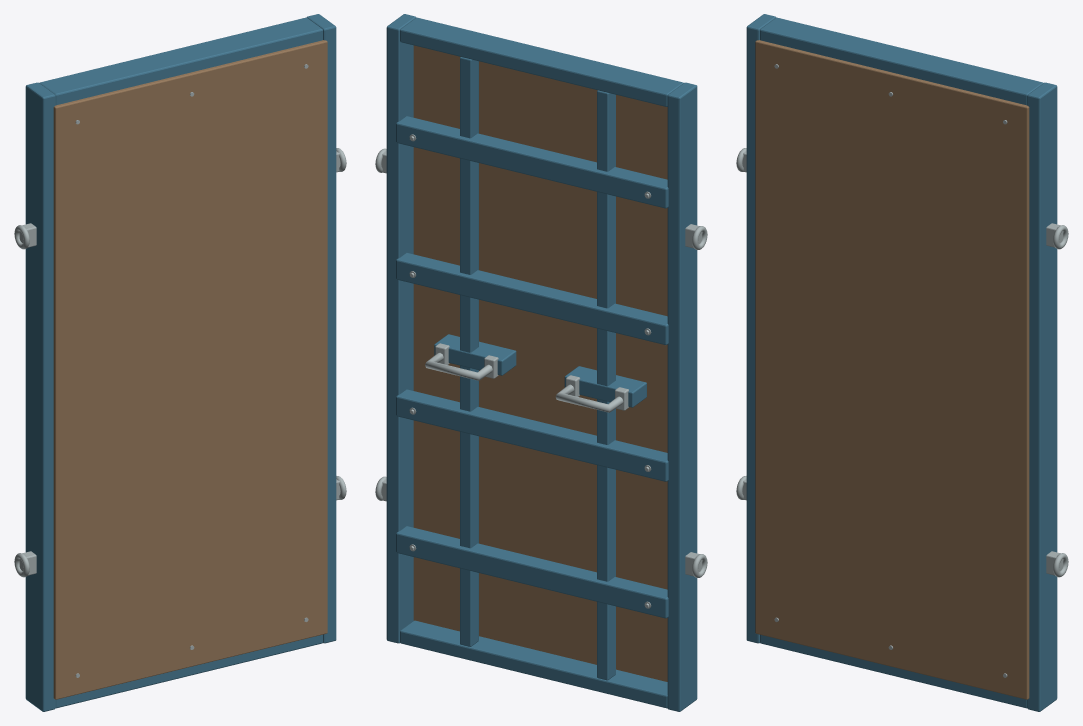
The model's file is city-framed-wall-formwork-panel.glb.
3 renders of one model, left to right at view 1: azimuth 30°, elevation 25°; view 2: azimuth 150°, elevation 25°; view 3: azimuth 330°, elevation 25°, orthographic.
Parts seen in each view (by area): view 1: Assembly | Plain sealed form-facing plywood, Assembly | Blue formwork frame, Assembly | Galvanized-looking support steel; view 2: Assembly | Blue formwork frame, Assembly | Plain sealed form-facing plywood, Assembly | Galvanized-looking support steel; view 3: Assembly | Plain sealed form-facing plywood, Assembly | Blue formwork frame, Assembly | Galvanized-looking support steel.
Boxes of the visible parts, box(x1,y1,x2,y2) form: Assembly | Plain sealed form-facing plywood: box(53, 40, 327, 699); Assembly | Blue formwork frame: box(25, 14, 336, 711); Assembly | Galvanized-looking support steel: box(14, 64, 346, 677); Assembly | Blue formwork frame: box(386, 14, 697, 711); Assembly | Plain sealed form-facing plywood: box(413, 45, 667, 681); Assembly | Galvanized-looking support steel: box(375, 134, 707, 608); Assembly | Plain sealed form-facing plywood: box(755, 40, 1029, 699); Assembly | Blue formwork frame: box(746, 14, 1057, 711); Assembly | Galvanized-looking support steel: box(736, 64, 1068, 677).
Size of the model in its own units: 0.986 by 1.8 by 0.1905.
